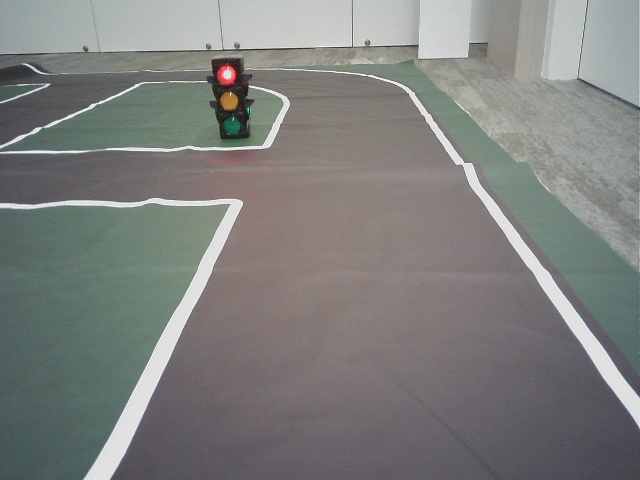red: (211, 58, 246, 133)
